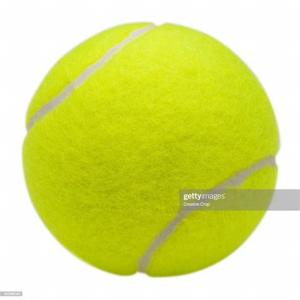Tennis: (17, 17, 284, 280)
